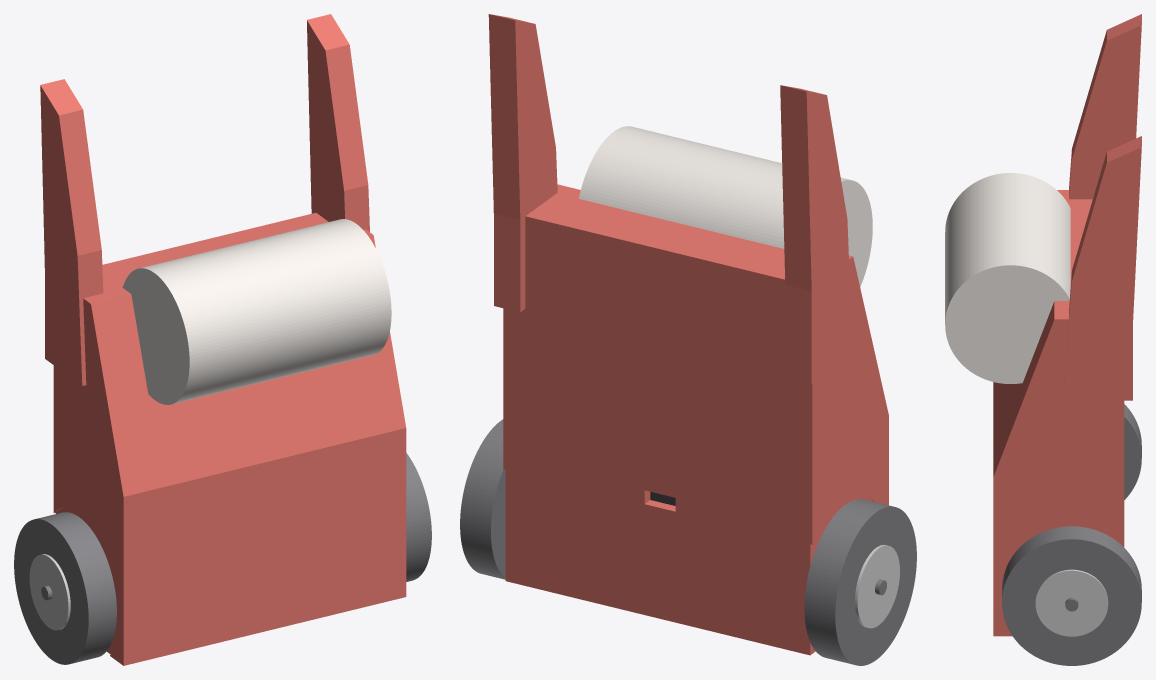
The model's file is tritongue.glb.
3 renders of one model, left to right at view 1: azimuth 30°, elevation 25°; view 2: azimuth 150°, elevation 25°; view 3: azimuth 270°, elevation 25°, orthographic. The views are drawn at different scales.
Parts seen in each view (by area): view 1: chassis, roller, claw_r, wheel_r0, claw_l, wheel_l0, dt_hub_wheel_r0; view 2: chassis, roller, claw_r, claw_l, wheel_r0, wheel_l0, dt_hub_wheel_r0; view 3: chassis, roller, claw_l, wheel_l0, claw_r, dt_hub_wheel_l0, wheel_r0.
Boxes of the visible parts, x1=… form: chassis: x1=53, y1=213, x2=406, y2=665; roller: x1=122, y1=219, x2=391, y2=404; claw_r: x1=40, y1=79, x2=103, y2=385; wheel_r0: x1=14, y1=512, x2=116, y2=664; claw_l: x1=307, y1=14, x2=369, y2=231; wheel_l0: x1=406, y1=453, x2=431, y2=581; dt_hub_wheel_r0: x1=29, y1=554, x2=70, y2=630; chassis: x1=503, y1=184, x2=888, y2=655; roller: x1=579, y1=126, x2=872, y2=286; claw_r: x1=780, y1=85, x2=852, y2=383; claw_l: x1=488, y1=14, x2=557, y2=312; wheel_r0: x1=804, y1=499, x2=916, y2=665; wheel_l0: x1=460, y1=419, x2=505, y2=579; dt_hub_wheel_r0: x1=855, y1=544, x2=899, y2=628; chassis: x1=993, y1=190, x2=1124, y2=636; roller: x1=945, y1=173, x2=1070, y2=383; claw_l: x1=1063, y1=136, x2=1141, y2=400; wheel_l0: x1=1002, y1=526, x2=1141, y2=665; claw_r: x1=1069, y1=14, x2=1141, y2=199; dt_hub_wheel_l0: x1=1035, y1=569, x2=1108, y2=636; wheel_r0: x1=1124, y1=404, x2=1141, y2=499.
Size of the model in its own units: 88.2 by 128 by 45.
